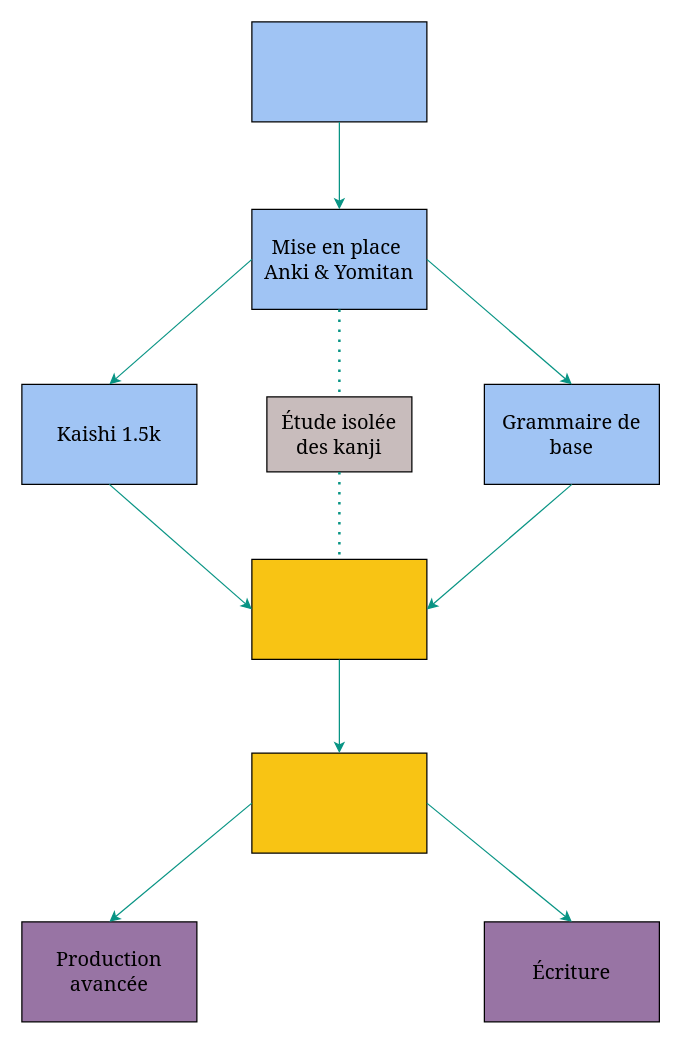
This 681x1044 diagram has some shape labels left out. Here are the shapes that lost their labels. From the top down, the centre of each, then its label:
the point at 339,71: Apprentissage des kanas
the point at 339,608: Deck de minage anki
the point at 339,802: Immersion japonaise et production
